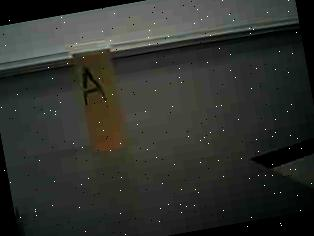Bottle A: (59, 27, 148, 172)
